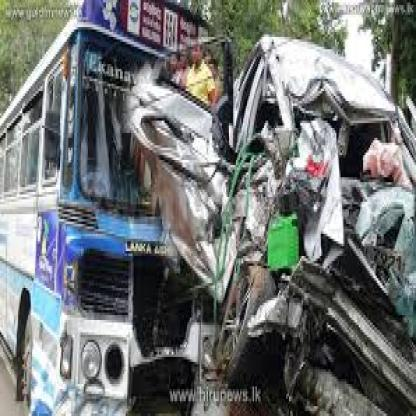accident: (7, 0, 416, 412)
